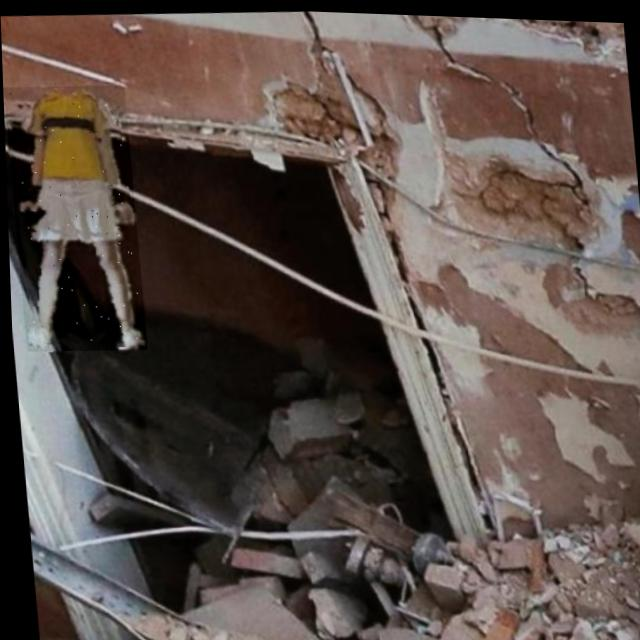Person in Rubble: (2, 81, 145, 355)
